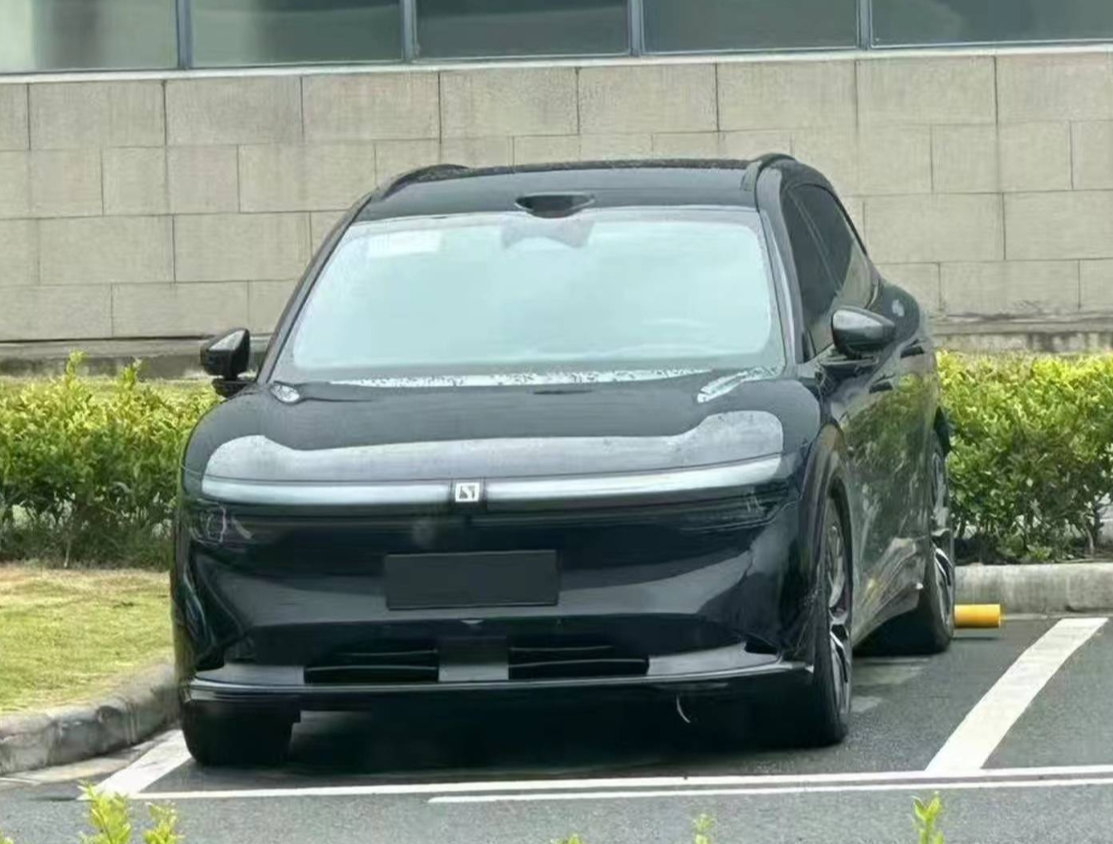other: (167, 142, 969, 761)
